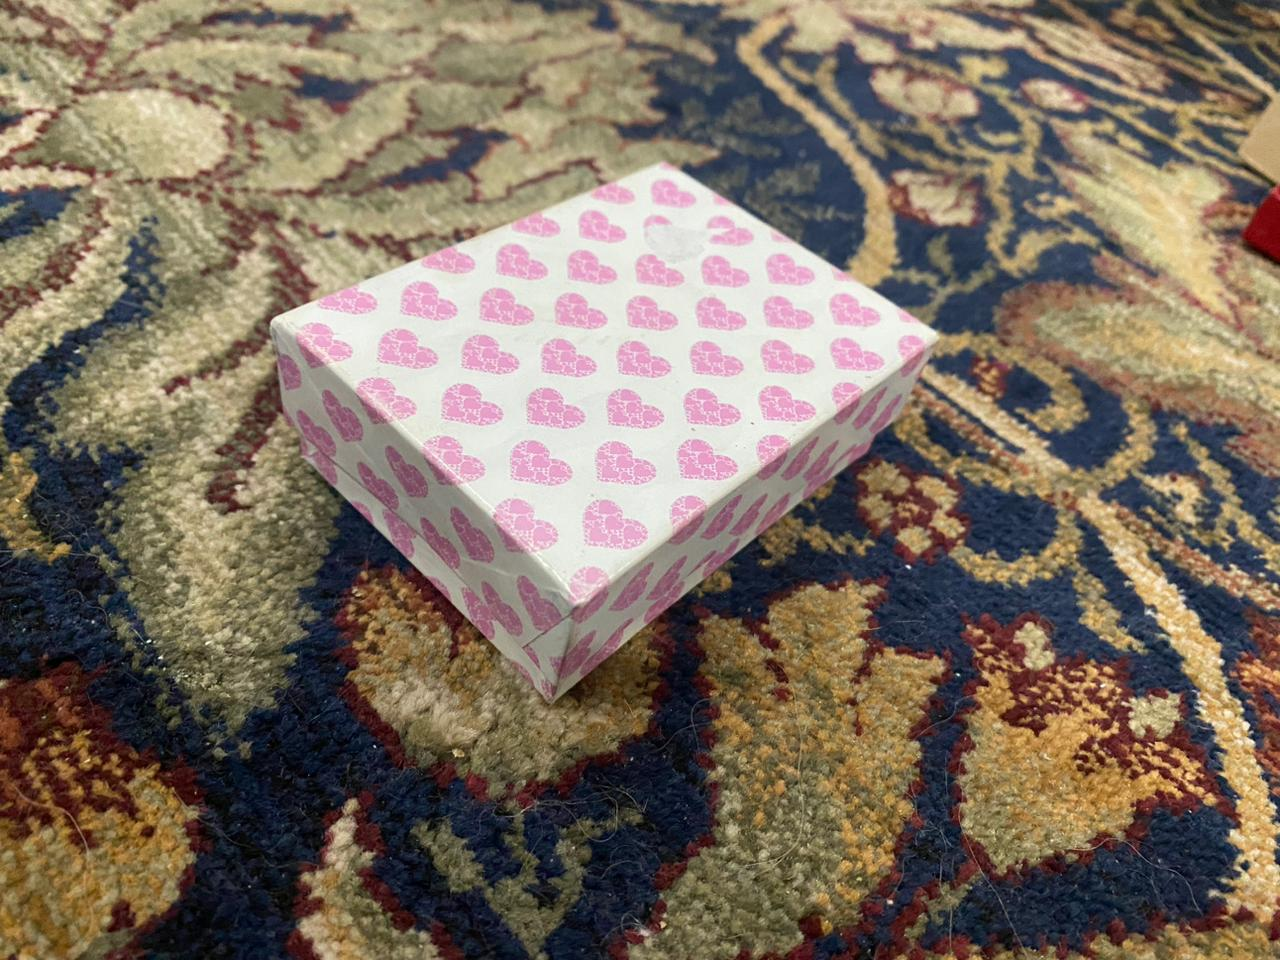Pink Box: (268, 158, 952, 714)
